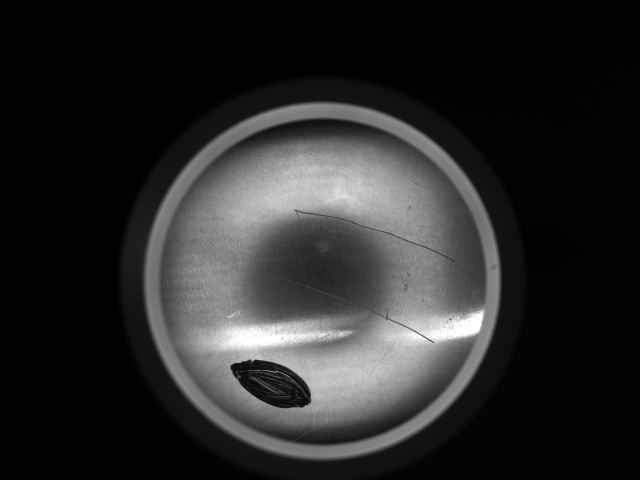ca_shang: (271, 270, 436, 345), (289, 205, 458, 263)
zang_wu: (224, 357, 312, 410)
